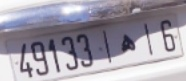1: (47, 37, 60, 74)
3: (60, 36, 78, 71), (76, 34, 93, 68)
4: (19, 43, 33, 78)
6: (159, 19, 177, 52)
9: (31, 40, 49, 76)
h: (118, 33, 136, 54)
